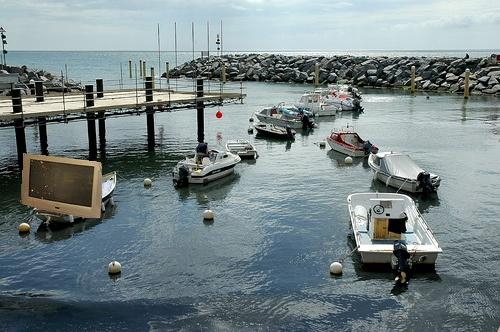tampered: (21, 154, 102, 218)
